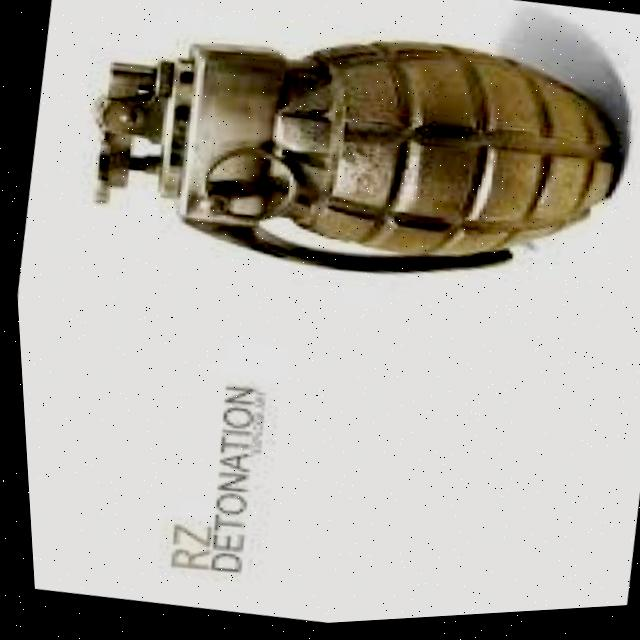grenade: (52, 0, 640, 342)
